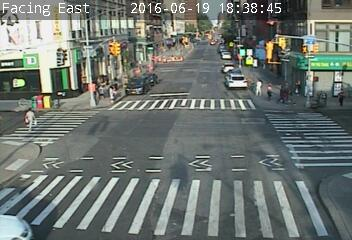neg: (85, 117, 107, 146), (273, 26, 292, 51), (291, 126, 305, 145), (175, 25, 188, 42), (191, 22, 204, 38)
pos: (16, 103, 39, 134), (333, 85, 350, 107), (261, 80, 277, 102), (251, 77, 266, 98)
